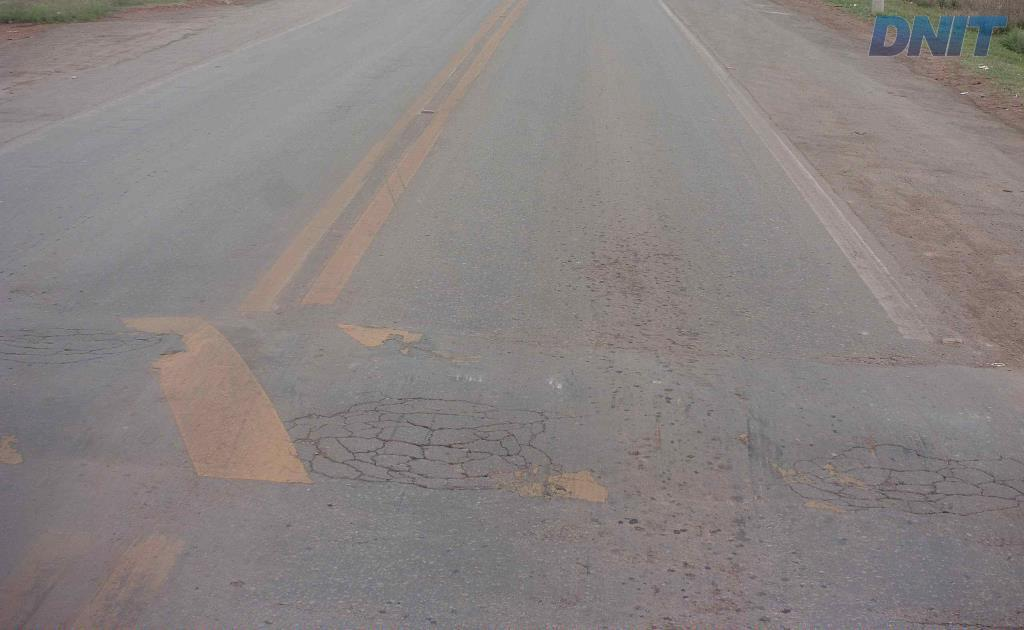crack: (292, 419, 537, 482), (882, 443, 965, 483), (902, 480, 985, 516), (867, 467, 912, 502)
